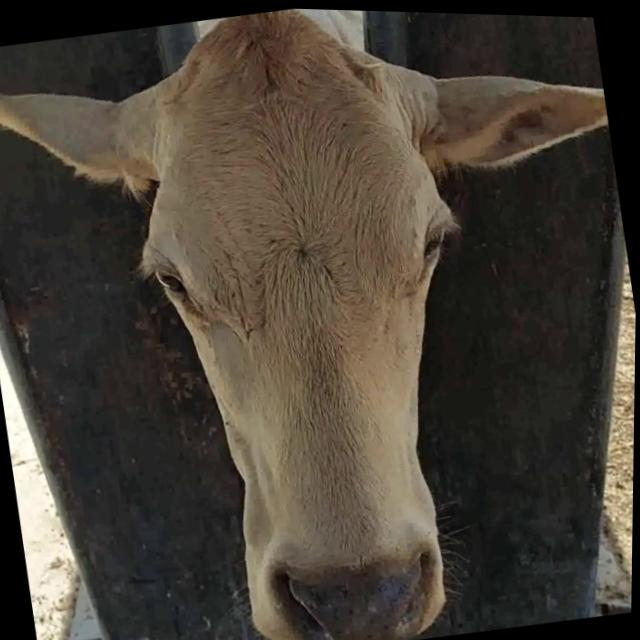cowFace: (113, 3, 516, 640)
